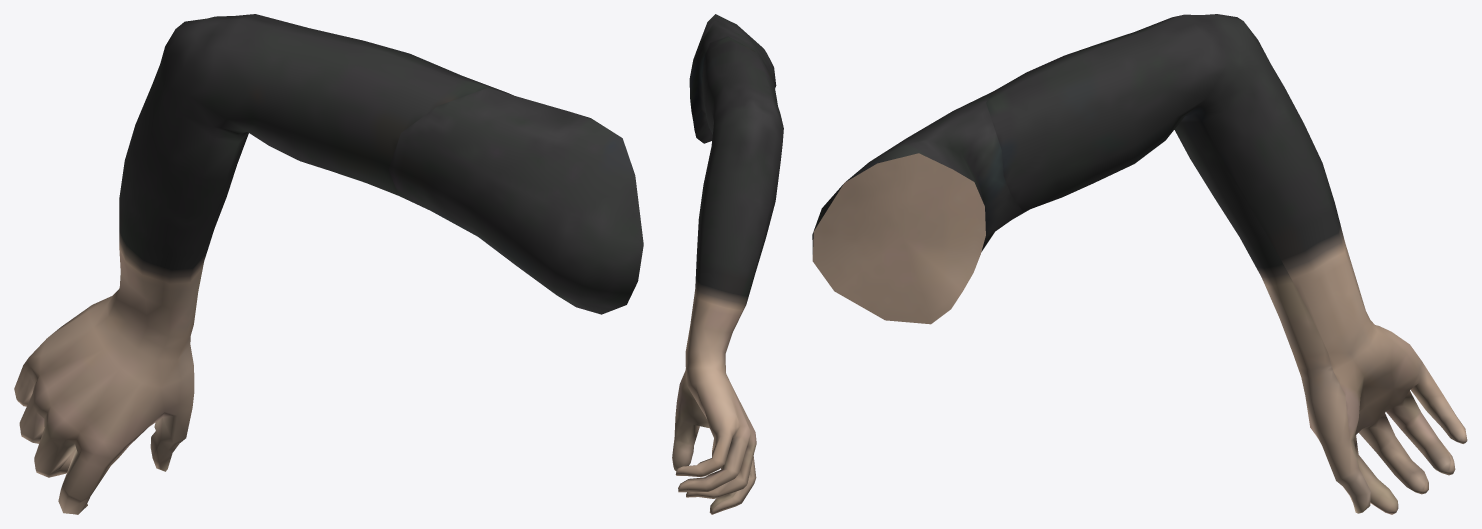
Rendered from dest_nt_nuked_female_02_arm_right_LOD0.obj.
3 views of the same model, side by side, from view 1: azimuth 30°, elevation 25°; view 2: azimuth 150°, elevation 25°; view 3: azimuth 270°, elevation 25° (orthographic). The views are drawn at different scales.
Visible parts, largest first — view 1: mtl_nt_2020_manne_fem01_head1; view 2: mtl_nt_2020_manne_fem01_head1; view 3: mtl_nt_2020_manne_fem01_head1.
Part boxes in pixels (box(x1,y1,x2,y2)): mtl_nt_2020_manne_fem01_head1: box(14, 14, 643, 514); mtl_nt_2020_manne_fem01_head1: box(672, 14, 783, 514); mtl_nt_2020_manne_fem01_head1: box(812, 14, 1467, 514).
Bounding box in the file's own units: 24.08 × 40.23 × 45.59.
